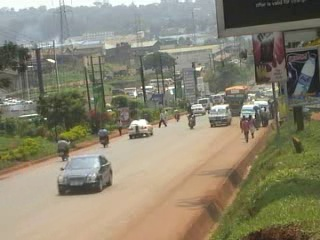Car: (54, 153, 114, 197), (126, 117, 156, 138), (186, 101, 206, 117)
Motorcycle: (56, 139, 72, 161), (97, 128, 111, 147), (185, 113, 196, 131), (172, 108, 179, 123)
